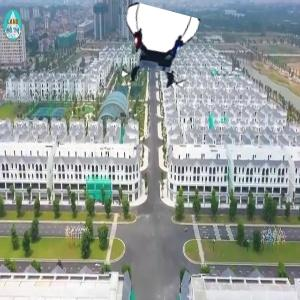drone: (117, 10, 200, 93)
